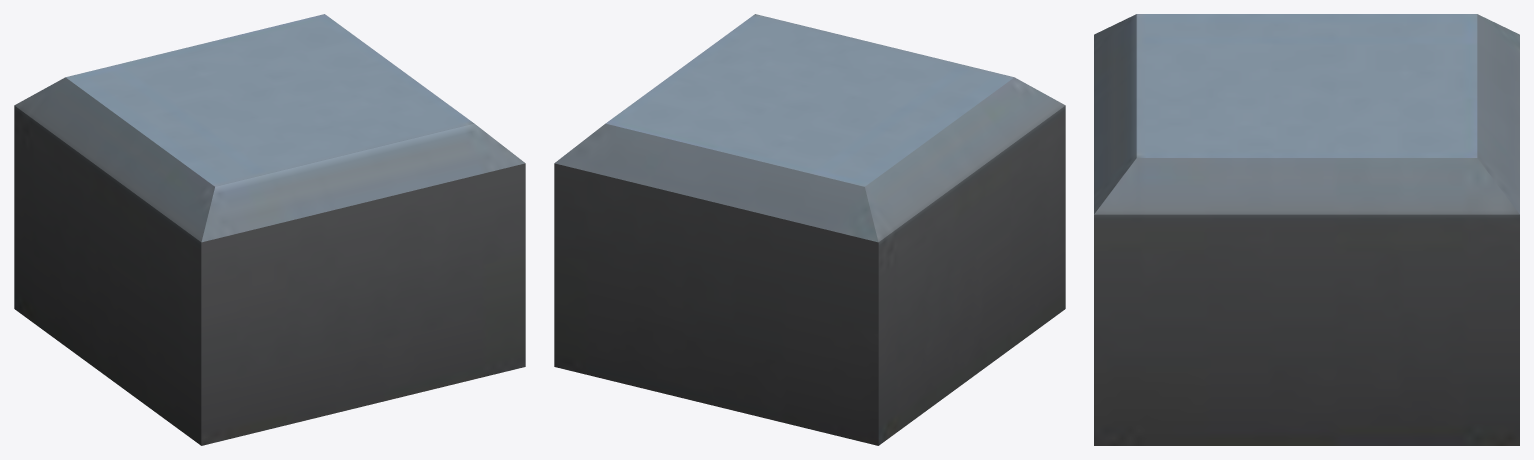
File: satellite.glb
The picture shows the model from 3 angles, left to right: view 1: azimuth 30°, elevation 25°; view 2: azimuth 150°, elevation 25°; view 3: azimuth 270°, elevation 25°; orthographic projection. The views are drawn at different scales.
Visible parts, largest first — view 1: satellite; view 2: satellite; view 3: satellite.
Boxes of the visible parts, bbox=[...] form: satellite: bbox=[14, 14, 525, 445]; satellite: bbox=[554, 14, 1065, 445]; satellite: bbox=[1094, 14, 1519, 445].
Bounding box in the file's own units: 0.2 × 0.14 × 0.2.
1 material, 1 textured.
